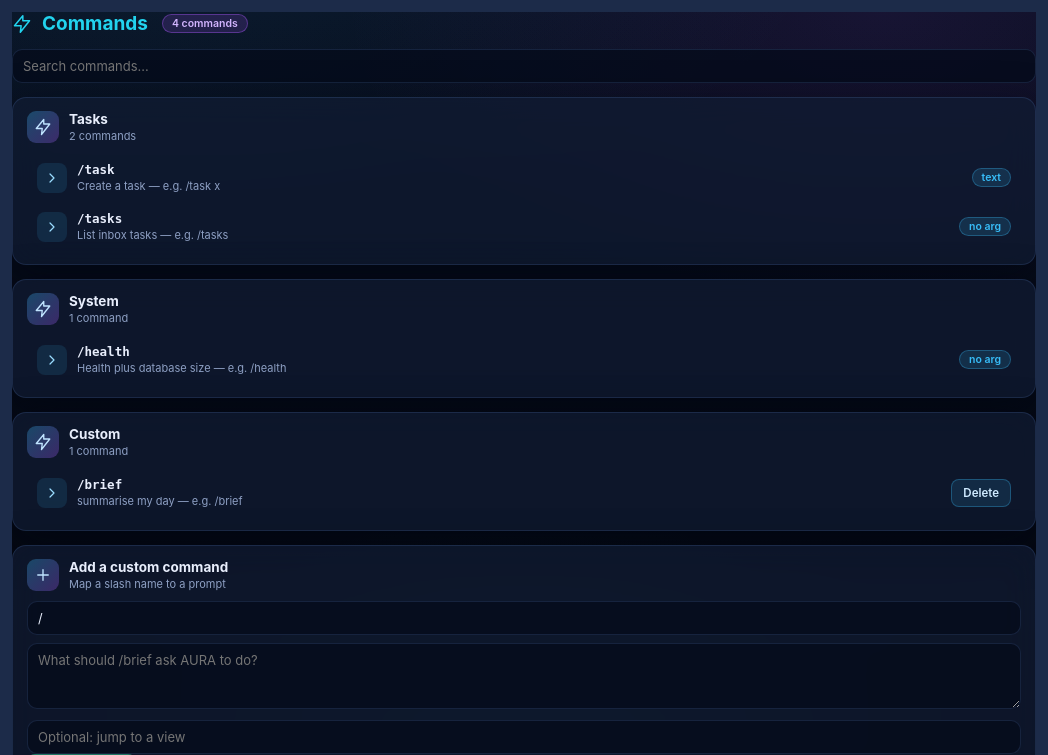
Test: CommandsView › the search box narrows the list — FR-CMD-005
Expected: the text "/health" is shown, [77,344,130,359]
Type "heal" into the field labelled "Search commands". click: point(524, 66)
box: [12,49,1036,83]
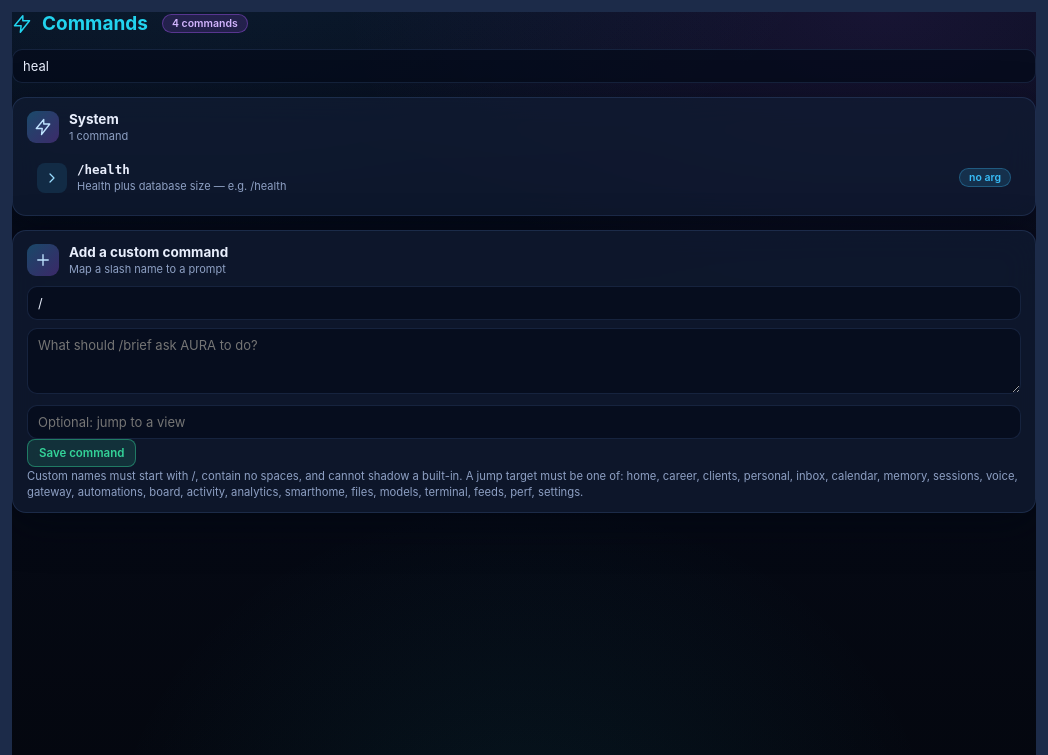
Expected: the text "/health" is shown, [77,162,130,177]
Expected: the text "/task" is gone
Replace the text in the field named "Search commands" with "zzzz". click: point(524, 66)
box: [12,49,1036,83]
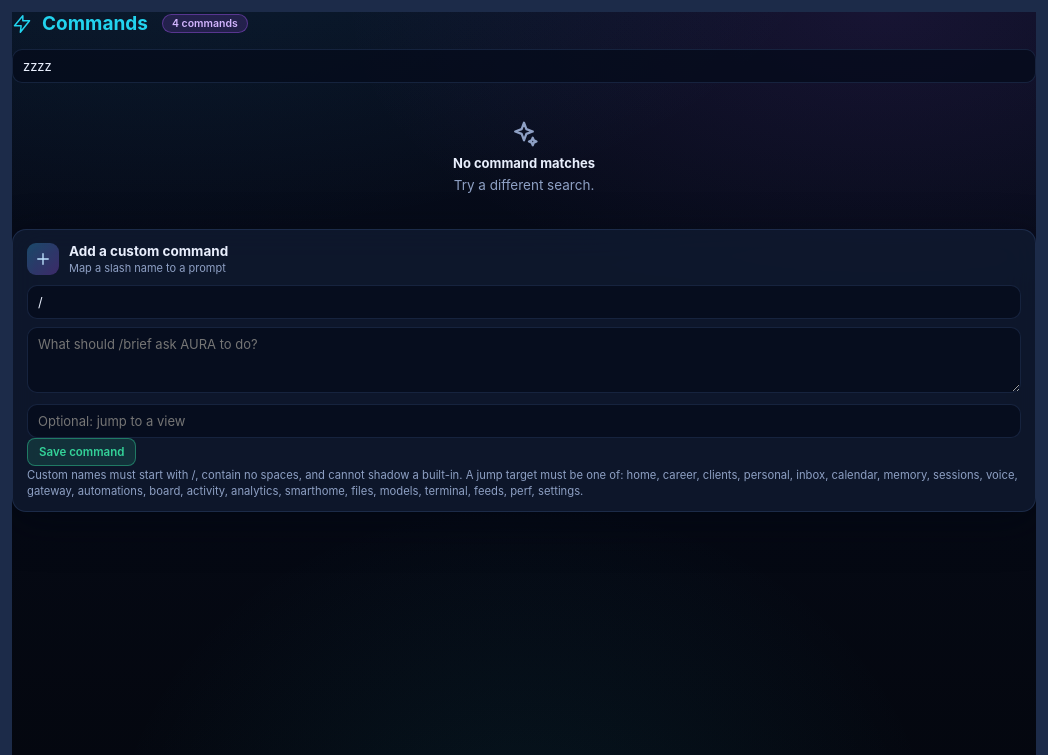
Expected: the text "No command matches" is shown, [453,155,595,171]
